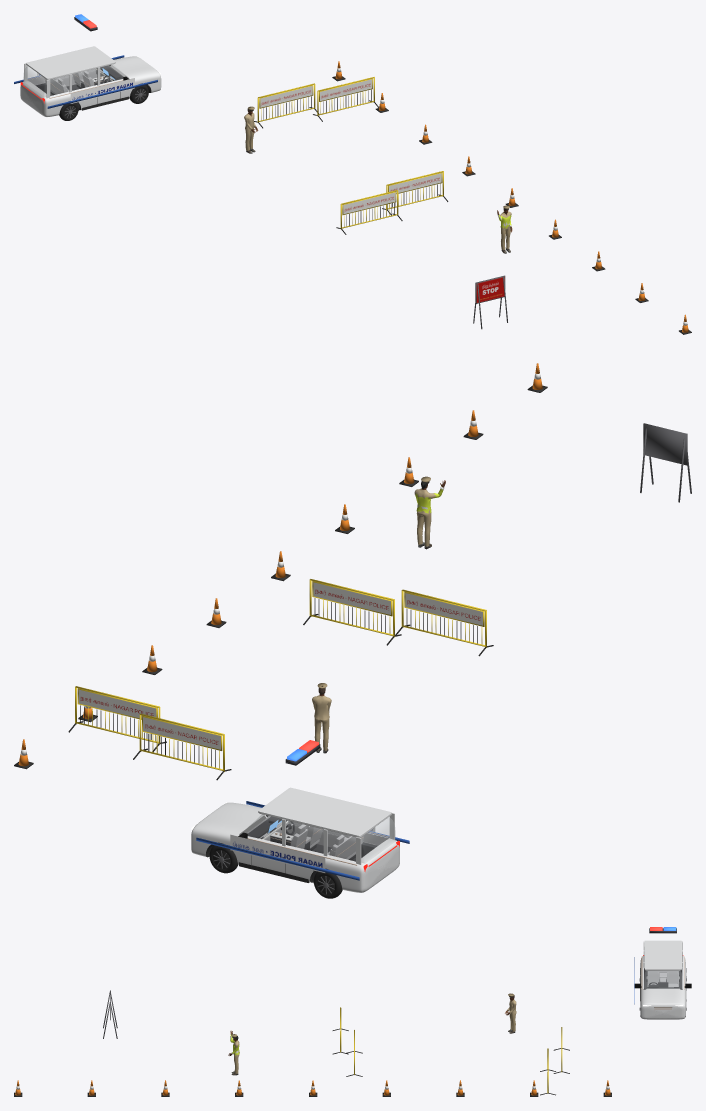
File: police_checkpoint.glb
3 views of the same model, one above another, from view 1: azimuth 30°, elevation 25°; view 2: azimuth 150°, elevation 25°; view 3: azimuth 270°, elevation 25° (orthographic). The views are drawn at different scales.
Parts seen in each view (by area): view 1: Body, Greenhouse, Barricade, Barricade.002, Police livery, Barricade.003, Barricade.001, Interior, Stop board; view 2: Body, Greenhouse, Police livery, Barricade.001, Barricade, Barricade.003, Interior, Barricade.002, Stop board, police_stop, police_stand; view 3: Body, Interior, Greenhouse, police_stand, police_stop.
Part boxes in pixels (x1,y1,x2,y2): Body: (20, 46, 161, 116); Greenhouse: (23, 64, 122, 96); Barricade: (336, 190, 402, 234); Barricade.002: (313, 77, 378, 121); Police livery: (14, 14, 157, 108); Barricade.003: (254, 83, 318, 128); Barricade.001: (382, 171, 448, 215); Interior: (35, 63, 123, 108); Stop board: (473, 275, 507, 329); Body: (191, 787, 399, 892); Greenhouse: (247, 814, 395, 863); Police livery: (196, 740, 409, 880); Barricade.001: (303, 579, 401, 645); Barricade: (395, 589, 493, 656); Barricade.003: (133, 713, 231, 780); Interior: (247, 813, 378, 880); Barricade.002: (68, 686, 166, 751); Stop board: (640, 423, 691, 502); police_stop: (414, 476, 445, 549); police_stand: (312, 683, 331, 753); Body: (640, 940, 686, 1019); Interior: (644, 968, 682, 989); Greenhouse: (644, 956, 681, 988); police_stand: (505, 993, 516, 1033); police_stop: (228, 1030, 239, 1075).
Bounding box in the file's own units: 11.94 × 3.62 × 29.43.
Materials: 58 (17 with a texture image).
